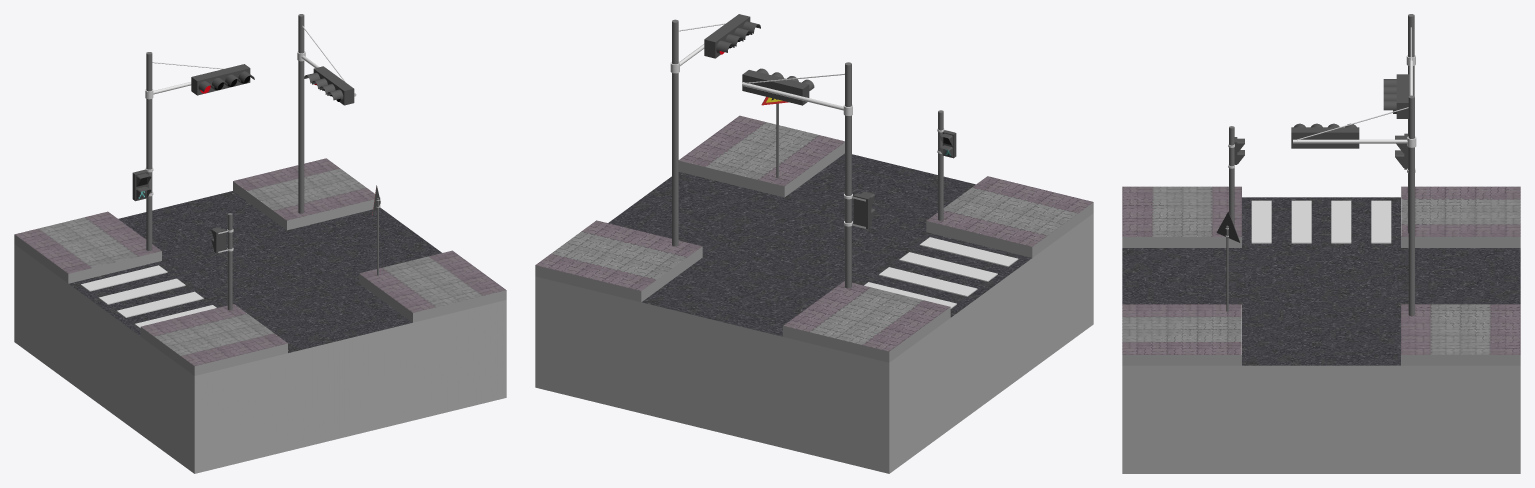
File: alvytlfrlakfrhkwp.glb
The picture shows the model from 3 angles, left to right: view 1: azimuth 30°, elevation 25°; view 2: azimuth 150°, elevation 25°; view 3: azimuth 270°, elevation 25°; orthographic projection. The views are drawn at different scales.
Parts seen in each view (by area): view 1: Cube.004, Cube.003, Cube.001, Cube.002; view 2: Cube.001, Cube.002, Cube.004, Cube.003; view 3: Cube.002, Cube.003, Cube.001, Cube.004.
Part boxes in pixels (x1,y1,x2,y2): Cube.004: [104, 213, 350, 473]; Cube.003: [261, 185, 506, 435]; Cube.001: [14, 52, 259, 407]; Cube.002: [170, 14, 415, 271]; Cube.001: [712, 62, 991, 473]; Cube.002: [535, 14, 813, 430]; Cube.004: [815, 110, 1093, 398]; Cube.003: [638, 96, 915, 244]; Cube.002: [1291, 95, 1520, 473]; Cube.003: [1122, 211, 1321, 473]; Cube.001: [1321, 14, 1520, 281]; Cube.004: [1122, 126, 1321, 281].
Bounding box in the file's own units: 20 × 18.68 × 20.
Materials: 48 (10 with a texture image).
